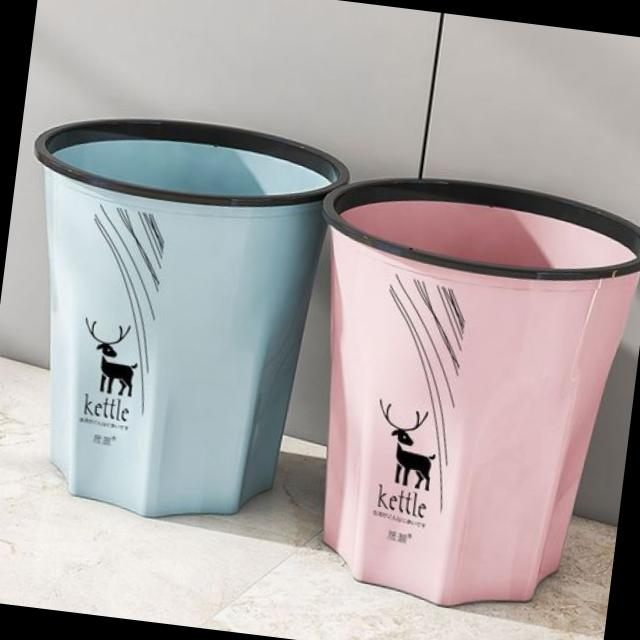dustbin: (270, 156, 640, 628), (0, 96, 357, 539)
